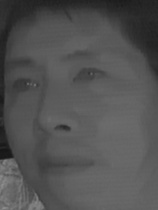eye: (70, 65, 111, 89), (7, 74, 42, 99)
mouth: (34, 148, 96, 181)
